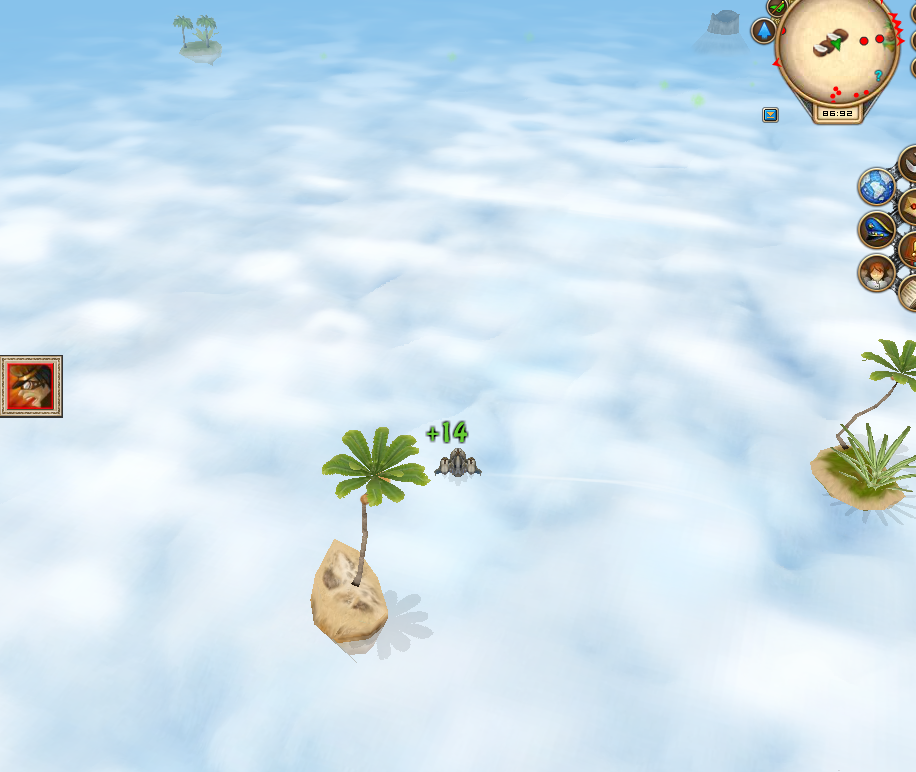palm: (285, 424, 434, 661), (809, 334, 916, 531)
